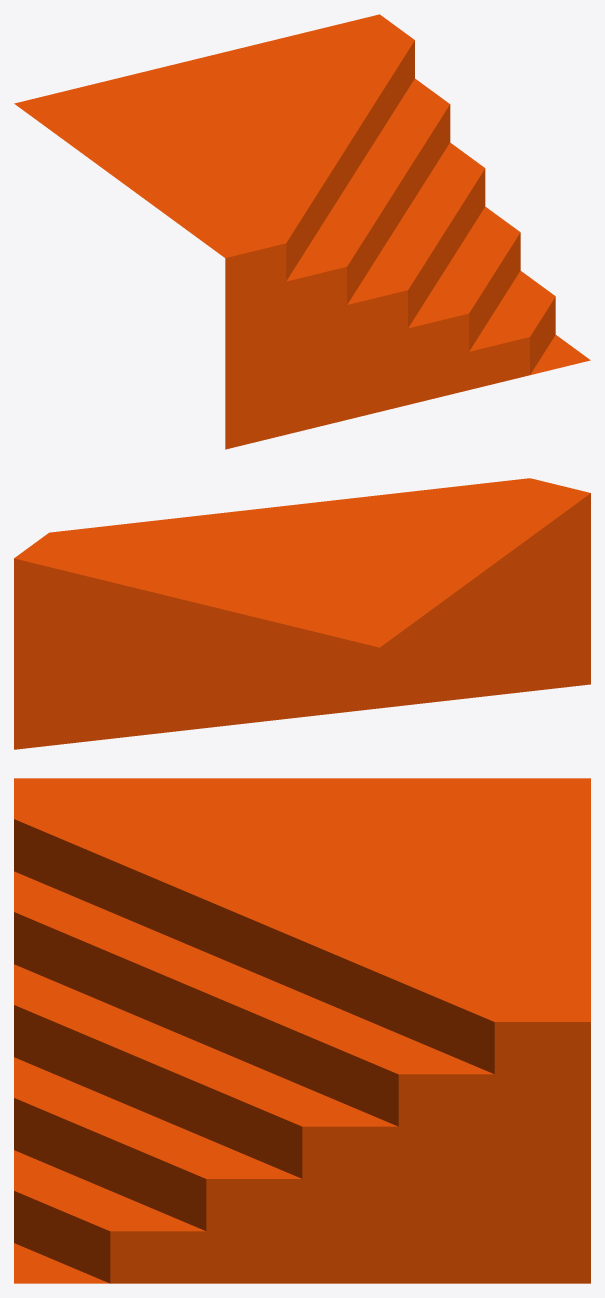
The picture shows the model from 3 angles, top to bottom: view 1: azimuth 30°, elevation 25°; view 2: azimuth 150°, elevation 25°; view 3: azimuth 270°, elevation 25°; orthographic projection. The views are drawn at different scales.
Parts seen in each view (by area): view 1: T_7_f_0; view 2: T_7_f_0; view 3: T_7_f_0.
Part boxes in pixels (x1=…): T_7_f_0: x1=14, y1=14, x2=590, y2=449; T_7_f_0: x1=14, y1=478, x2=590, y2=749; T_7_f_0: x1=14, y1=778, x2=590, y2=1283.
Bounding box in the file's own units: 99.79 × 49.91 × 99.81.
